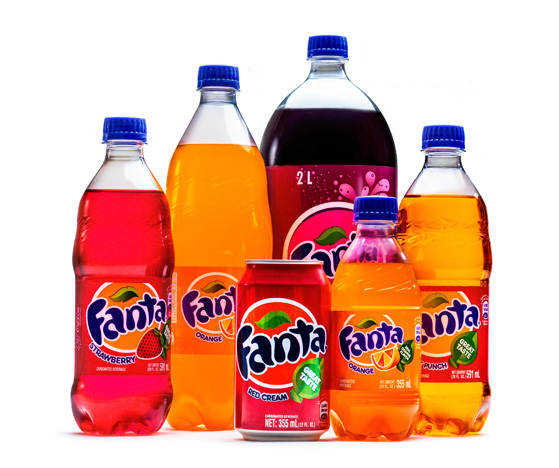Fanta: (63, 113, 171, 446), (398, 123, 500, 442), (180, 63, 267, 434), (329, 201, 424, 439)
